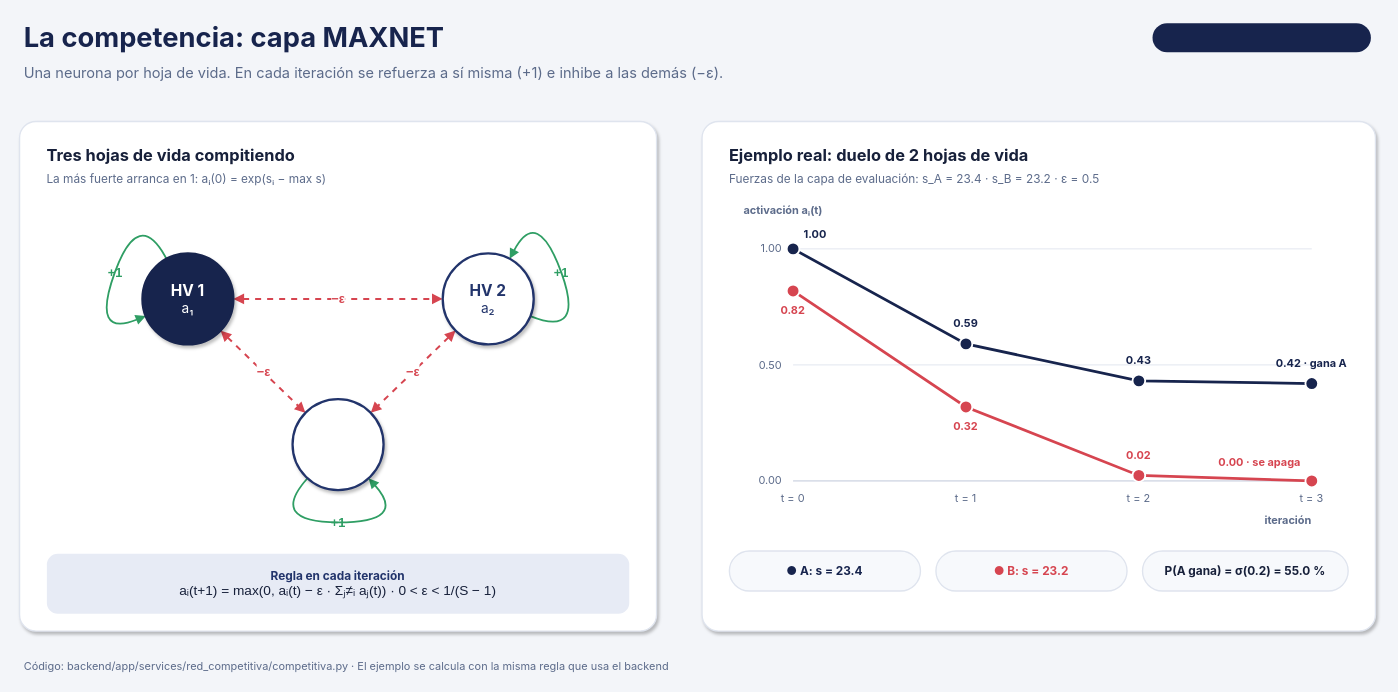
The diagram is 1398 pixels wide and 692 high, and some of its shapes have lost their labels. The centre of each missing label's shape, as x and y in pixels:
CVScope · MAXNET: pixel 1261 37
HV 3 a₃: pixel 338 445
